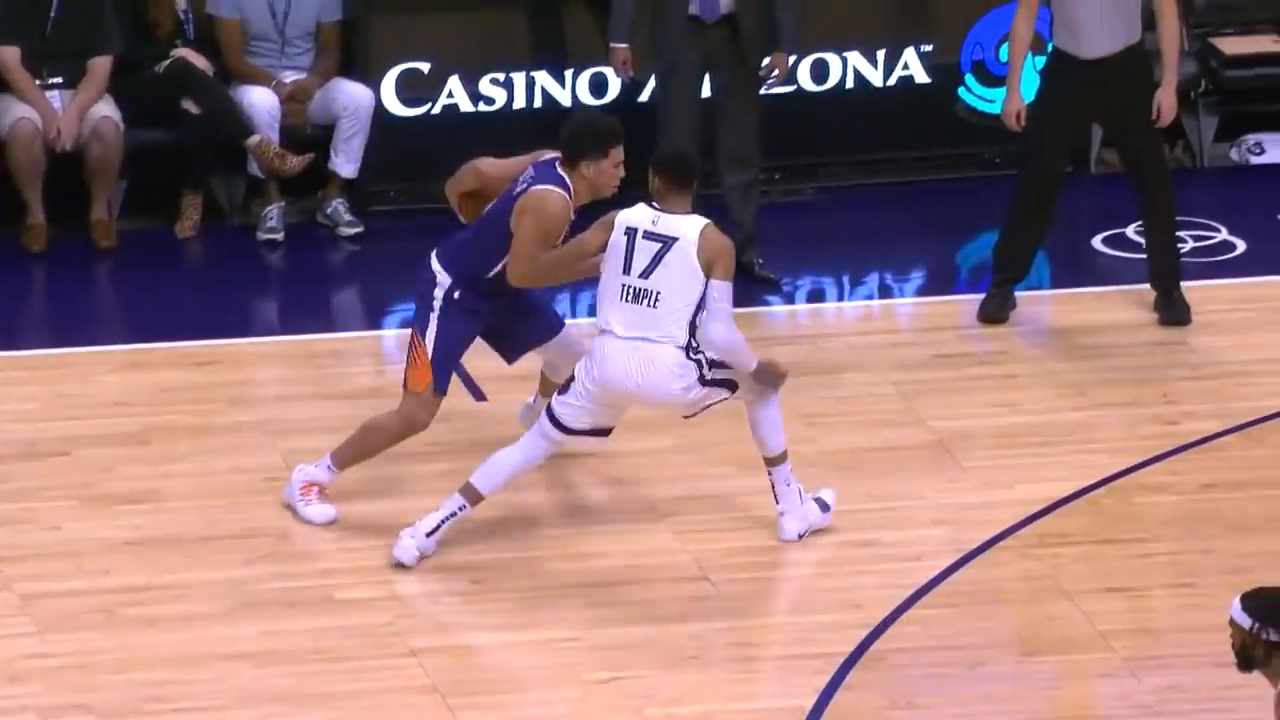ball: (454, 187, 509, 224)
